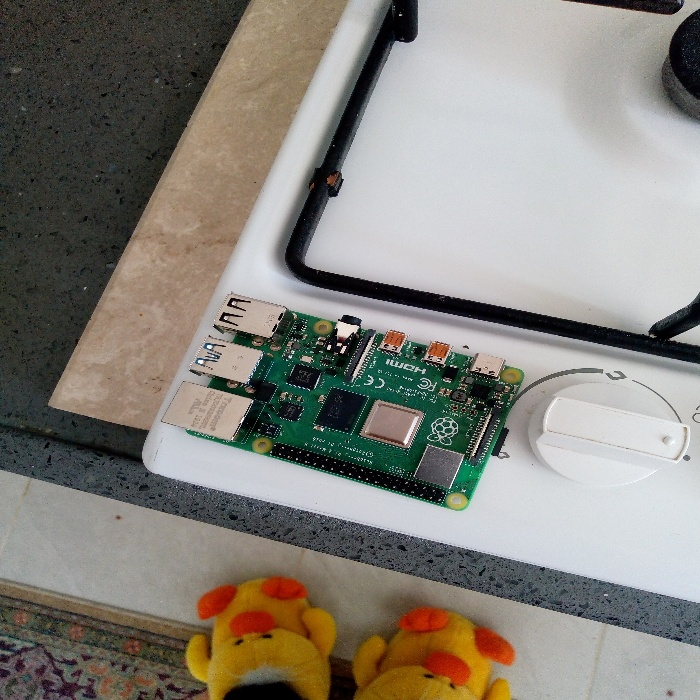raspberry: (150, 287, 516, 512)
